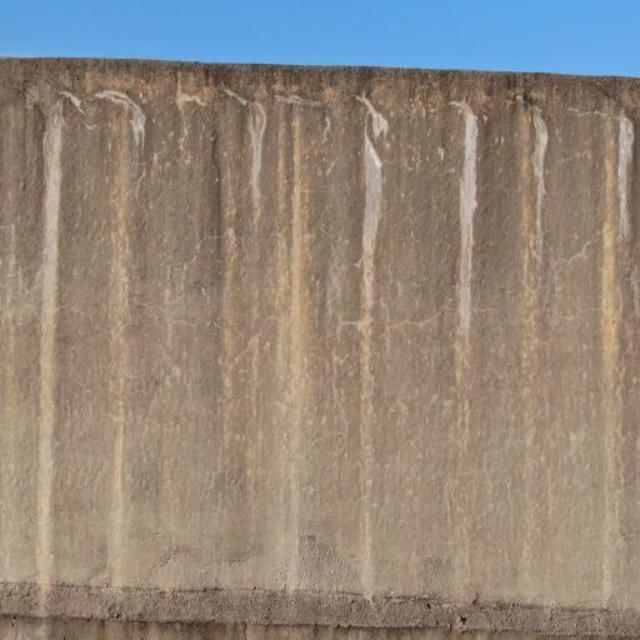D01: (38, 98, 65, 553), (454, 106, 476, 373), (522, 104, 549, 257), (90, 90, 144, 140)
